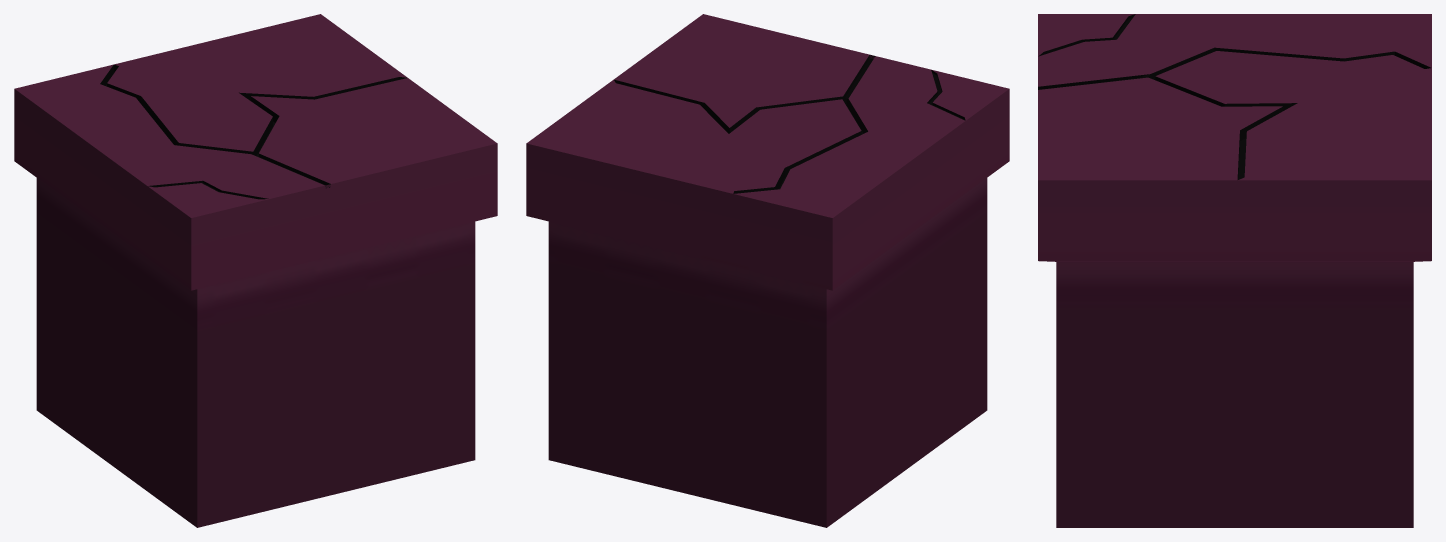
Rendered from SoloTermploQuebradoVE.glb.
The picture shows the model from 3 angles, left to right: view 1: azimuth 30°, elevation 25°; view 2: azimuth 150°, elevation 25°; view 3: azimuth 270°, elevation 25°; orthographic projection. The views are drawn at different scales.
Parts seen in each view (by area): view 1: SoloTermploQuebradoVE; view 2: SoloTermploQuebradoVE; view 3: SoloTermploQuebradoVE.
Boxes of the visible parts, x1,y1,x2,y2 form: SoloTermploQuebradoVE: (14,14,497,527); SoloTermploQuebradoVE: (526,14,1009,527); SoloTermploQuebradoVE: (1038,14,1431,527).
Bounding box in the file's own units: 2 × 1.99 × 2.
1 material, 1 textured.
